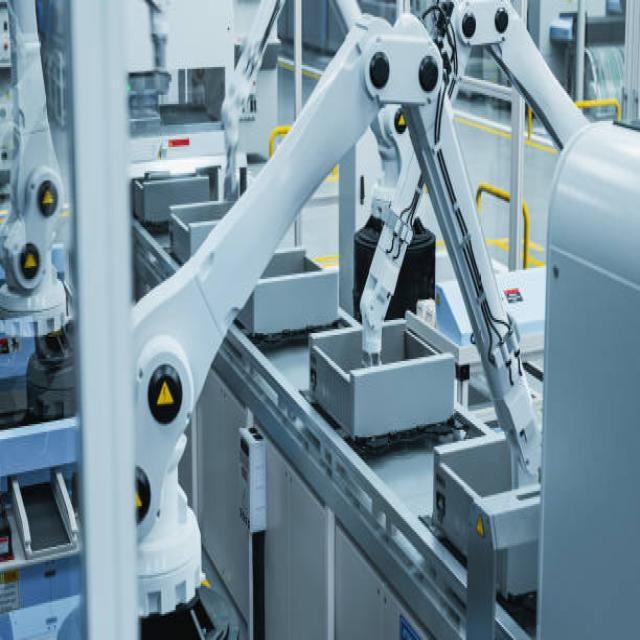Robotic-arm: (115, 16, 534, 640), (462, 0, 594, 165)
